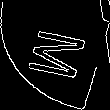M_E: (19, 26, 91, 84)
